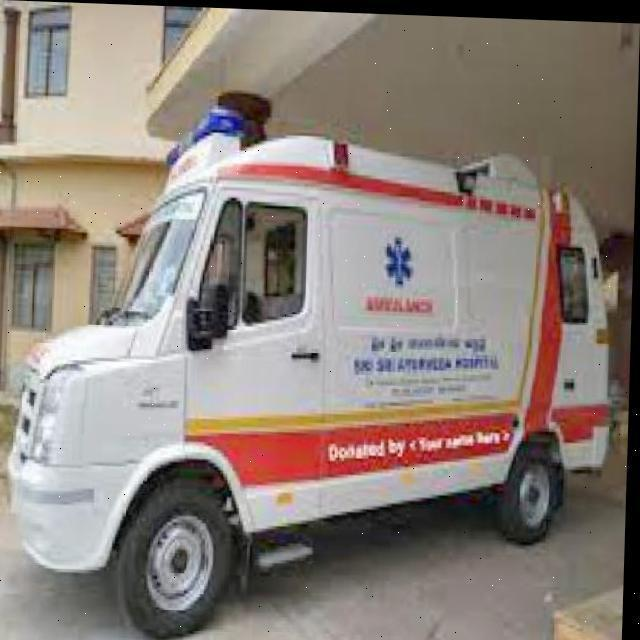Ambulance: (0, 90, 629, 640), (0, 433, 628, 640)
